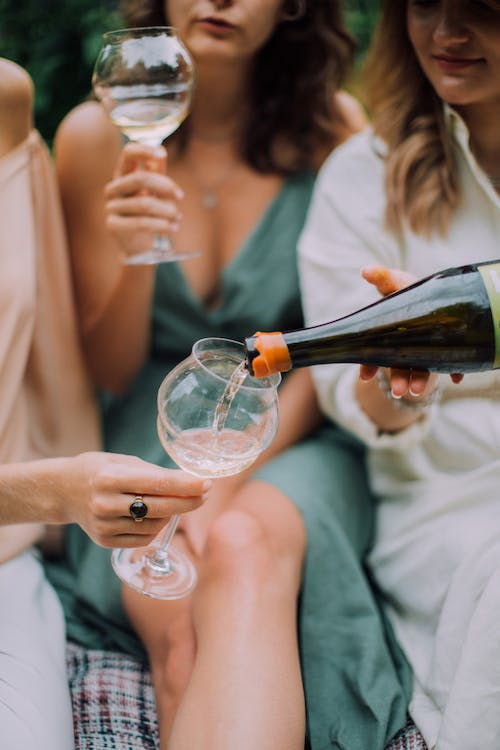alcohol: (108, 334, 284, 601), (240, 257, 500, 380), (89, 25, 204, 267)
